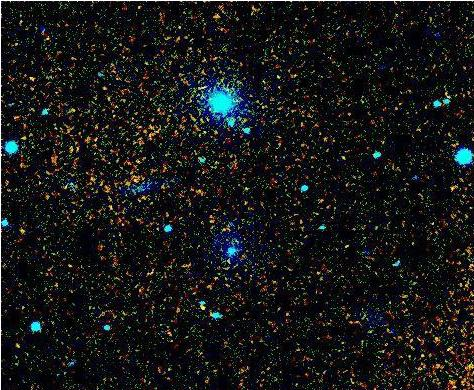star: (185, 289, 215, 319)
